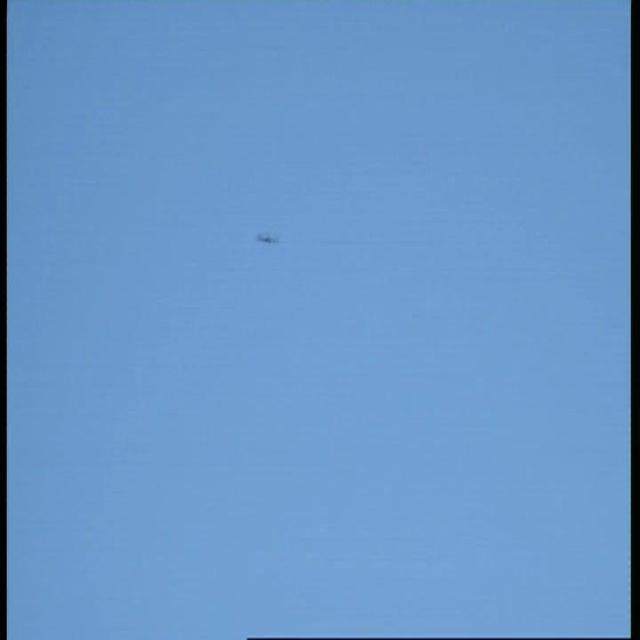drone: (247, 224, 287, 252)
